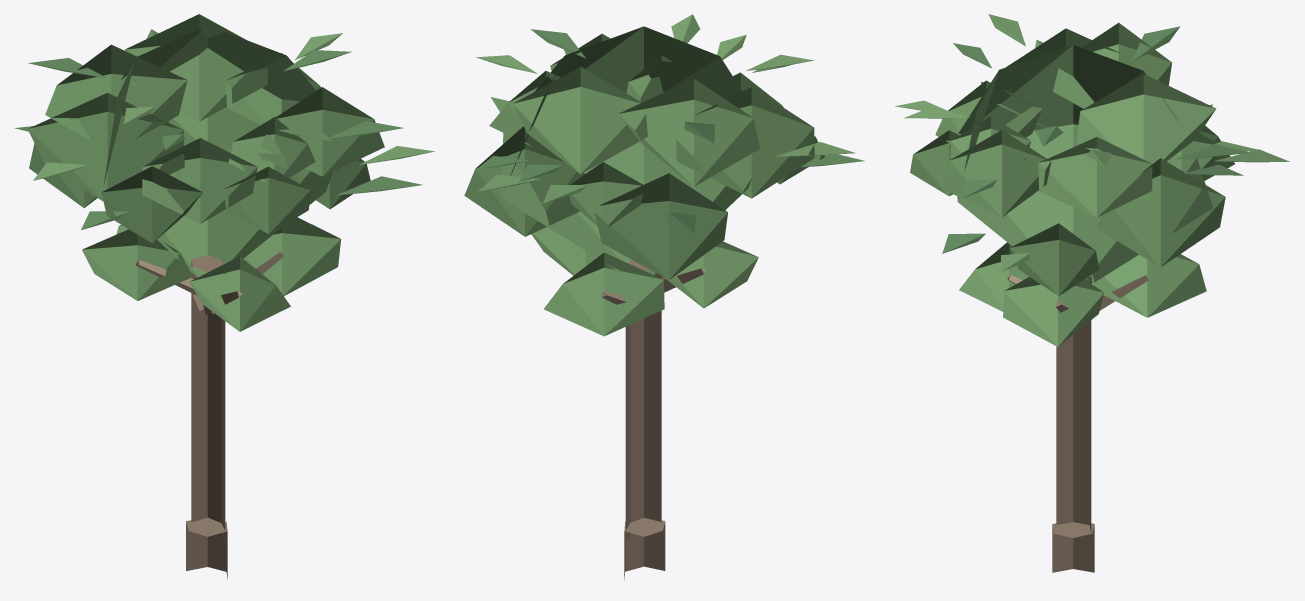
Rendered from shu.longnao__summer.glb.
The picture shows the model from 3 angles, left to right: view 1: azimuth 30°, elevation 25°; view 2: azimuth 150°, elevation 25°; view 3: azimuth 270°, elevation 25°; orthographic projection. The views are drawn at different scales.
Parts seen in each view (by area): view 1: shu.longnao__summer; view 2: shu.longnao__summer; view 3: shu.longnao__summer.
Boxes of the visible parts, box(x1,y1,x2,y2) form: shu.longnao__summer: box(14, 14, 434, 579); shu.longnao__summer: box(464, 14, 864, 580); shu.longnao__summer: box(895, 14, 1289, 572).
Size of the model in its own units: 21.86 by 29.23 by 19.99.
